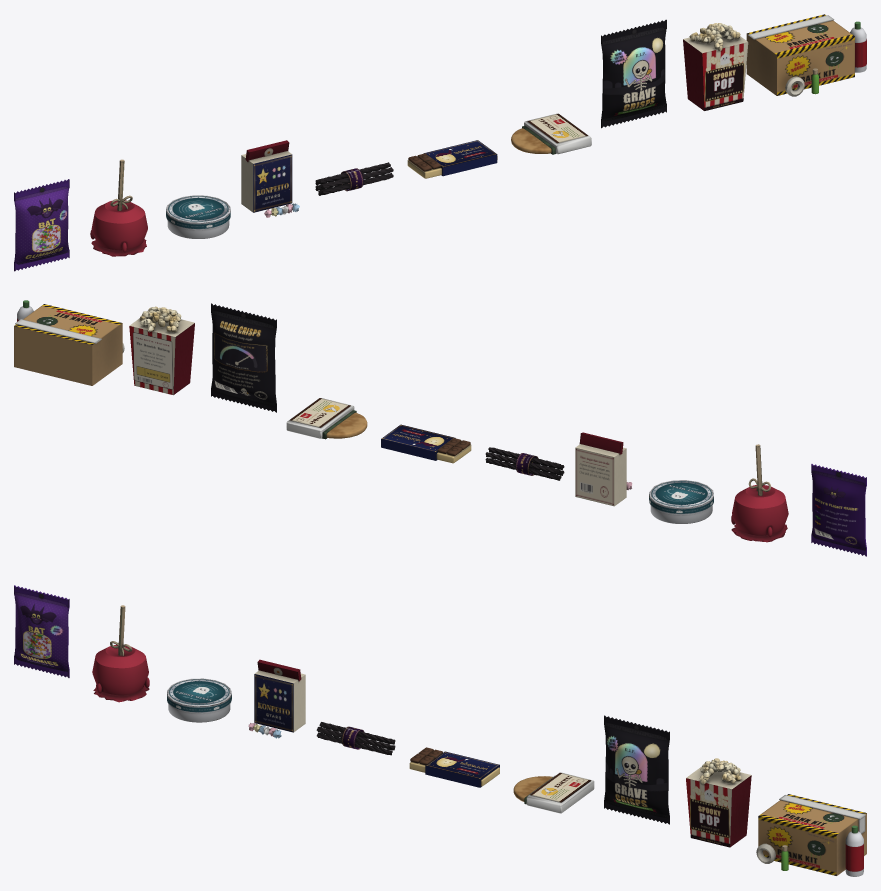
The model's file is ConcessionCandy.fbx.
3 views of the same model, one above another, from view 1: azimuth 30°, elevation 25°; view 2: azimuth 150°, elevation 25°; view 3: azimuth 330°, elevation 25° (orthographic).
Visible parts, largest first — view 1: ConcessionCandy_PrankKit, ConcessionCandy_GraveCrisps, ConcessionCandy_Popcorn, ConcessionCandy_BatGummies, ConcessionCandy_KonpeitoStars, ConcessionCandy_CandyApple, ConcessionCandy_GhostMints, ConcessionCandy_Senbei, ConcessionCandy_ChocolateBar, ConcessionCandy_LicoriceWhips; view 2: ConcessionCandy_PrankKit, ConcessionCandy_GraveCrisps, ConcessionCandy_Popcorn, ConcessionCandy_BatGummies, ConcessionCandy_KonpeitoStars, ConcessionCandy_CandyApple, ConcessionCandy_GhostMints, ConcessionCandy_Senbei, ConcessionCandy_ChocolateBar, ConcessionCandy_LicoriceWhips; view 3: ConcessionCandy_PrankKit, ConcessionCandy_GraveCrisps, ConcessionCandy_Popcorn, ConcessionCandy_BatGummies, ConcessionCandy_KonpeitoStars, ConcessionCandy_CandyApple, ConcessionCandy_GhostMints, ConcessionCandy_Senbei, ConcessionCandy_ChocolateBar, ConcessionCandy_LicoriceWhips.
Boxes of the visible parts, x1,y1,x2,y2 form: ConcessionCandy_PrankKit: (746, 14, 866, 96); ConcessionCandy_GraveCrisps: (601, 19, 666, 128); ConcessionCandy_Popcorn: (683, 23, 748, 110); ConcessionCandy_BatGummies: (14, 179, 69, 271); ConcessionCandy_KonpeitoStars: (241, 140, 299, 217); ConcessionCandy_CandyApple: (90, 159, 147, 256); ConcessionCandy_GhostMints: (166, 195, 230, 238); ConcessionCandy_Senbei: (511, 113, 591, 154); ConcessionCandy_ChocolateBar: (407, 140, 497, 178); ConcessionCandy_LicoriceWhips: (315, 162, 393, 195); ConcessionCandy_PrankKit: (14, 300, 124, 385); ConcessionCandy_GraveCrisps: (211, 303, 276, 412); ConcessionCandy_Popcorn: (129, 306, 194, 395); ConcessionCandy_BatGummies: (811, 464, 866, 556); ConcessionCandy_KonpeitoStars: (575, 432, 632, 506); ConcessionCandy_CandyApple: (731, 444, 788, 542); ConcessionCandy_GhostMints: (649, 480, 713, 523); ConcessionCandy_Senbei: (286, 398, 367, 439); ConcessionCandy_ChocolateBar: (381, 424, 471, 463); ConcessionCandy_LicoriceWhips: (485, 447, 564, 480); ConcessionCandy_PrankKit: (756, 794, 866, 876); ConcessionCandy_GraveCrisps: (604, 715, 669, 824); ConcessionCandy_Popcorn: (686, 758, 751, 847); ConcessionCandy_BatGummies: (14, 585, 69, 677); ConcessionCandy_KonpeitoStars: (248, 659, 305, 738); ConcessionCandy_CandyApple: (92, 605, 149, 702); ConcessionCandy_GhostMints: (167, 678, 231, 722); ConcessionCandy_Senbei: (513, 772, 594, 813); ConcessionCandy_ChocolateBar: (409, 747, 499, 787); ConcessionCandy_LicoriceWhips: (316, 722, 395, 755).
Bounding box in the file's own units: 652 × 68 × 50.5.
